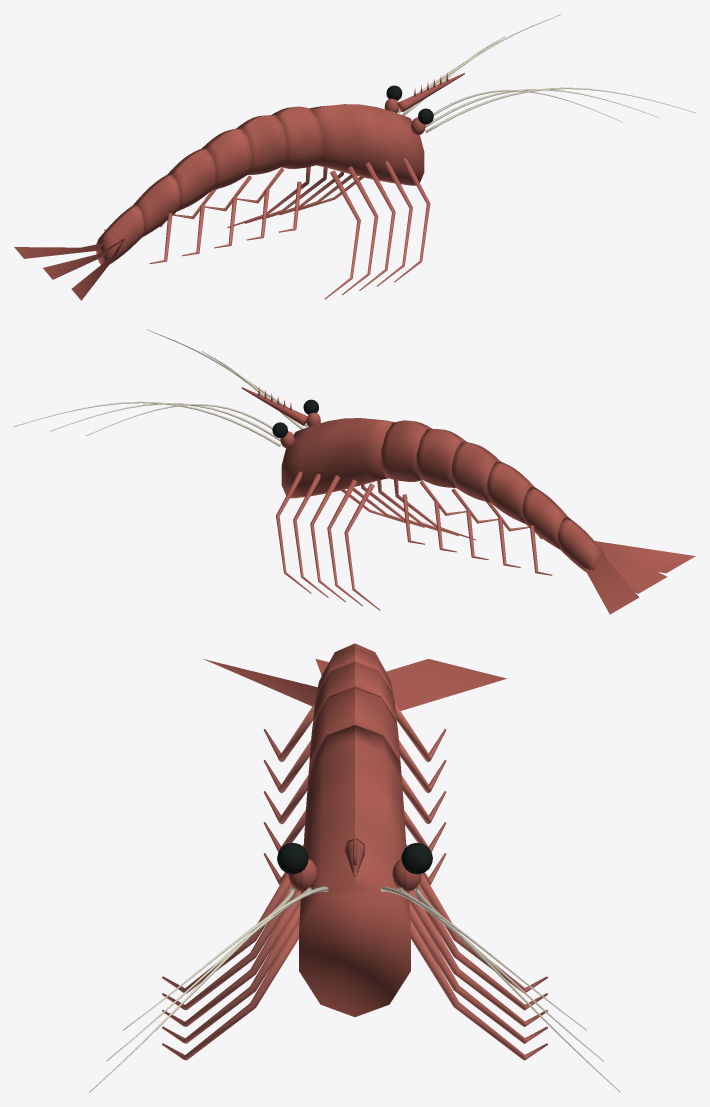
Rendered from fireshrimp-mobile.glb.
3 renders of one model, top to bottom at view 1: azimuth 30°, elevation 25°; view 2: azimuth 150°, elevation 25°; view 3: azimuth 270°, elevation 25°, orthographic. The views are drawn at different scales.
Parts seen in each view (by area): view 1: carapace, pereiopod, antenna, pleopod, serrated-rostrum; view 2: carapace, pereiopod, antenna, pleopod, serrated-rostrum; view 3: carapace, pereiopod, pleopod, antenna, eye, eye-stalk.
Part boxes in pixels (<box>): carapace: <box>14,104,424,300</box>; pereiopod: <box>227,158,430,299</box>; antenna: <box>398,14,695,133</box>; pleopod: <box>104,167,301,263</box>; serrated-rostrum: <box>397,73,464,111</box>; carapace: <box>281,418,695,614</box>; pereiopod: <box>276,471,475,610</box>; antenna: <box>14,329,307,446</box>; pleopod: <box>402,480,552,575</box>; serrated-rostrum: <box>241,387,308,425</box>; carapace: <box>203,643,506,1016</box>; pereiopod: <box>162,844,547,1060</box>; pleopod: <box>263,703,446,884</box>; antenna: <box>89,886,620,1092</box>; eye: <box>277,843,432,874</box>; eye-stalk: <box>288,859,421,891</box>.
Bounding box in the file's own units: 1.18 × 0.2938 × 0.4707.
